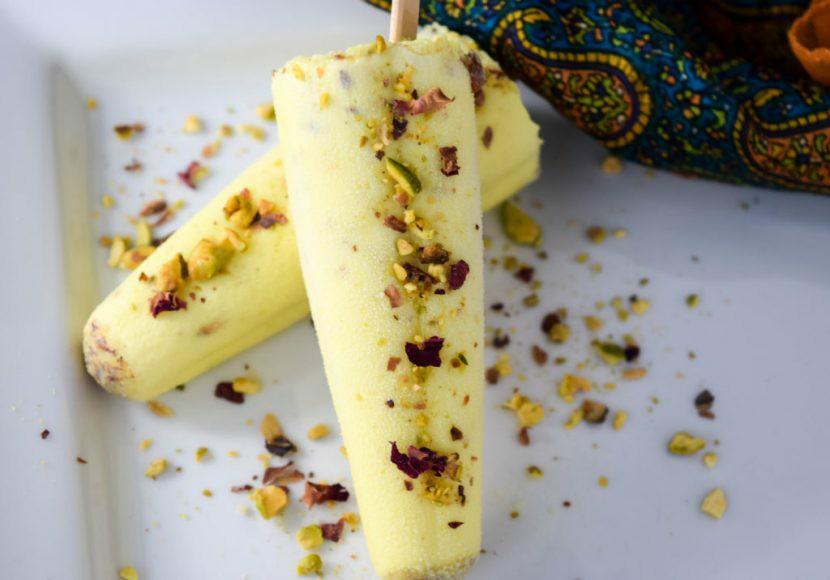Kulfi: (78, 24, 540, 403), (277, 34, 490, 577)
